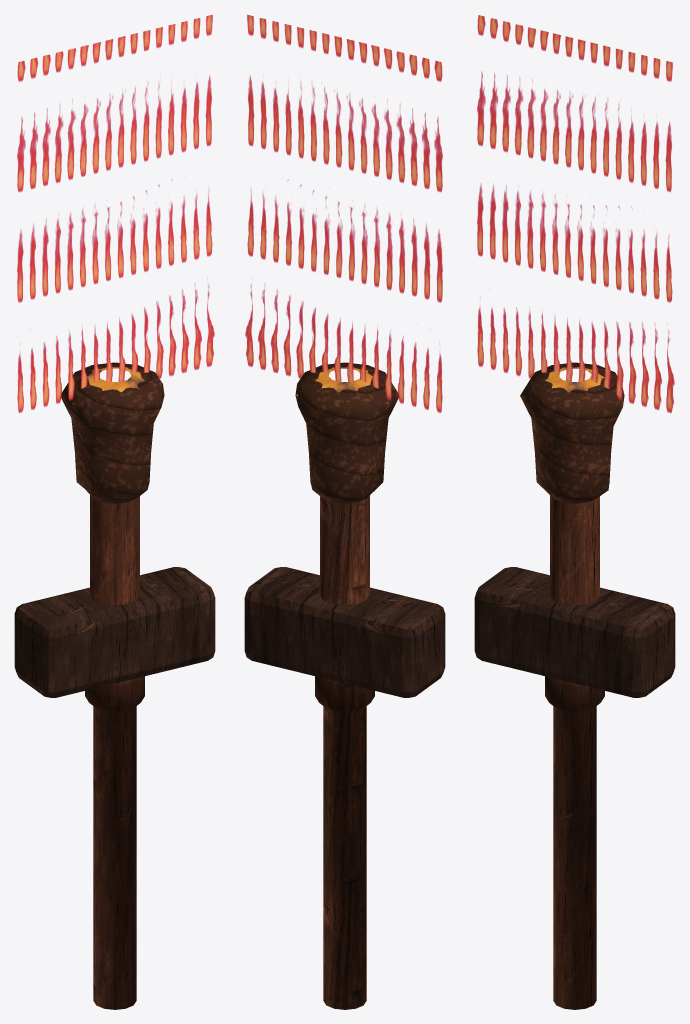
File: mm7_deco_torch01_red_free.glb
3 renders of one model, left to right at view 1: azimuth 30°, elevation 25°; view 2: azimuth 150°, elevation 25°; view 3: azimuth 330°, elevation 25°, orthographic.
Visible parts, largest first — view 1: Torch01Free; view 2: Torch01Free; view 3: Torch01Free.
Boxes of the visible parts, x1,y1,x2,y2 form: Torch01Free: (14,14,215,1009); Torch01Free: (244,14,445,1009); Torch01Free: (474,15,675,1009).
Size of the model in its own units: 0.3427 by 1.57 by 0.1542.
5 materials, 5 textured.
